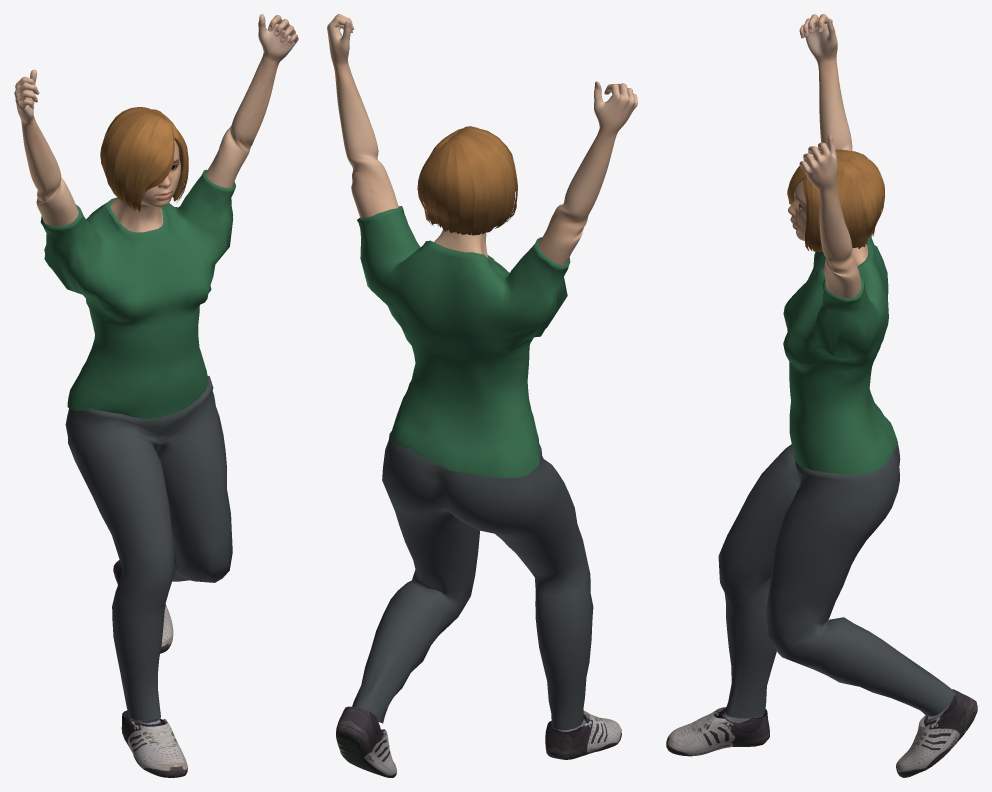
The model's file is football-celebrating-spectator-static.glb.
3 renders of one model, left to right at view 1: azimuth 30°, elevation 25°; view 2: azimuth 150°, elevation 25°; view 3: azimuth 270°, elevation 25°, orthographic. The views are drawn at different scales.
Visible parts, largest first — view 1: female_casualsuit01, Taylor | anatomical body, bob02, shoes05; view 2: female_casualsuit01, Taylor | anatomical body, bob02, shoes05; view 3: female_casualsuit01, Taylor | anatomical body, shoes05, bob02.
Part boxes in pixels (x1,y1,x2,y2): female_casualsuit01: [40, 169, 235, 720]; Taylor | anatomical body: [14, 14, 298, 232]; bob02: [100, 107, 188, 212]; shoes05: [113, 560, 187, 777]; female_casualsuit01: [352, 206, 593, 729]; Taylor | anatomical body: [327, 14, 637, 264]; bob02: [417, 126, 517, 235]; shoes05: [336, 706, 621, 777]; female_casualsuit01: [718, 236, 955, 718]; Taylor | anatomical body: [788, 14, 868, 298]; shoes05: [666, 689, 977, 777]; bob02: [787, 149, 884, 251].
Size of the model in its own units: 0.7898 by 1.81 by 0.7316.
Materials: 9 (9 with a texture image).
